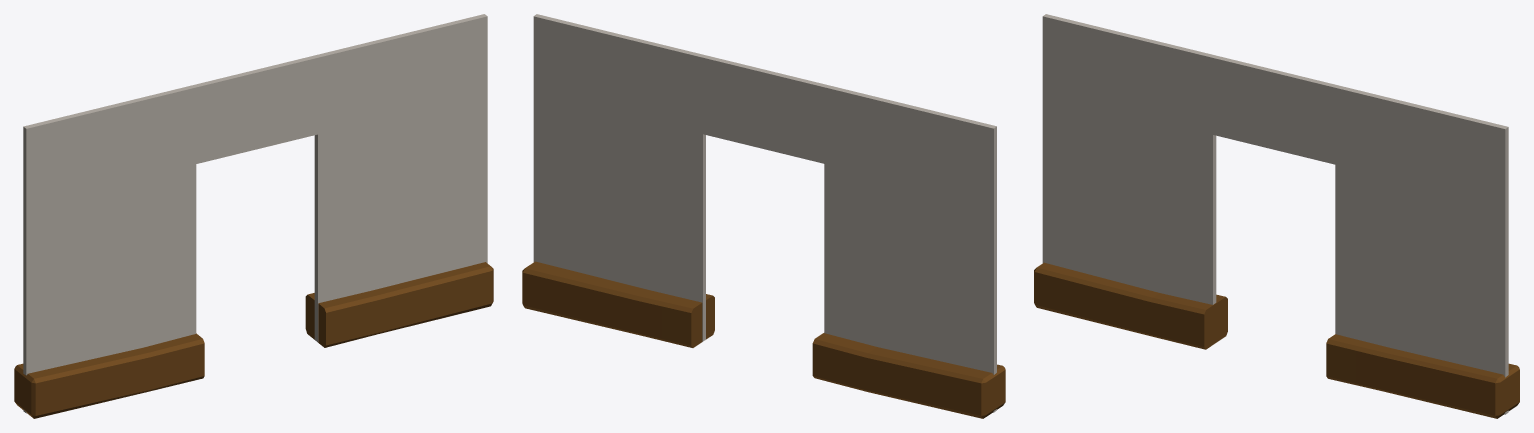
File: Wall_12_Door.fbx
3 renders of one model, left to right at view 1: azimuth 30°, elevation 25°; view 2: azimuth 150°, elevation 25°; view 3: azimuth 330°, elevation 25°, orthographic.
Parts seen in each view (by area): view 1: Wall_12_Door; view 2: Wall_12_Door; view 3: Wall_12_Door.
Boxes of the visible parts, <box> form: Wall_12_Door: <box>14,14,493,418</box>; Wall_12_Door: <box>522,14,1005,418</box>; Wall_12_Door: <box>1034,14,1519,418</box>.
Bounding box in the file's own units: 476 × 280 × 41.23.
